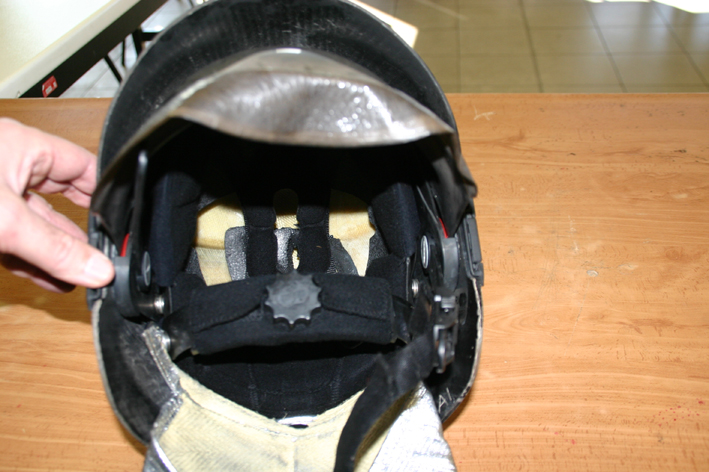helmet: (96, 34, 475, 432)
